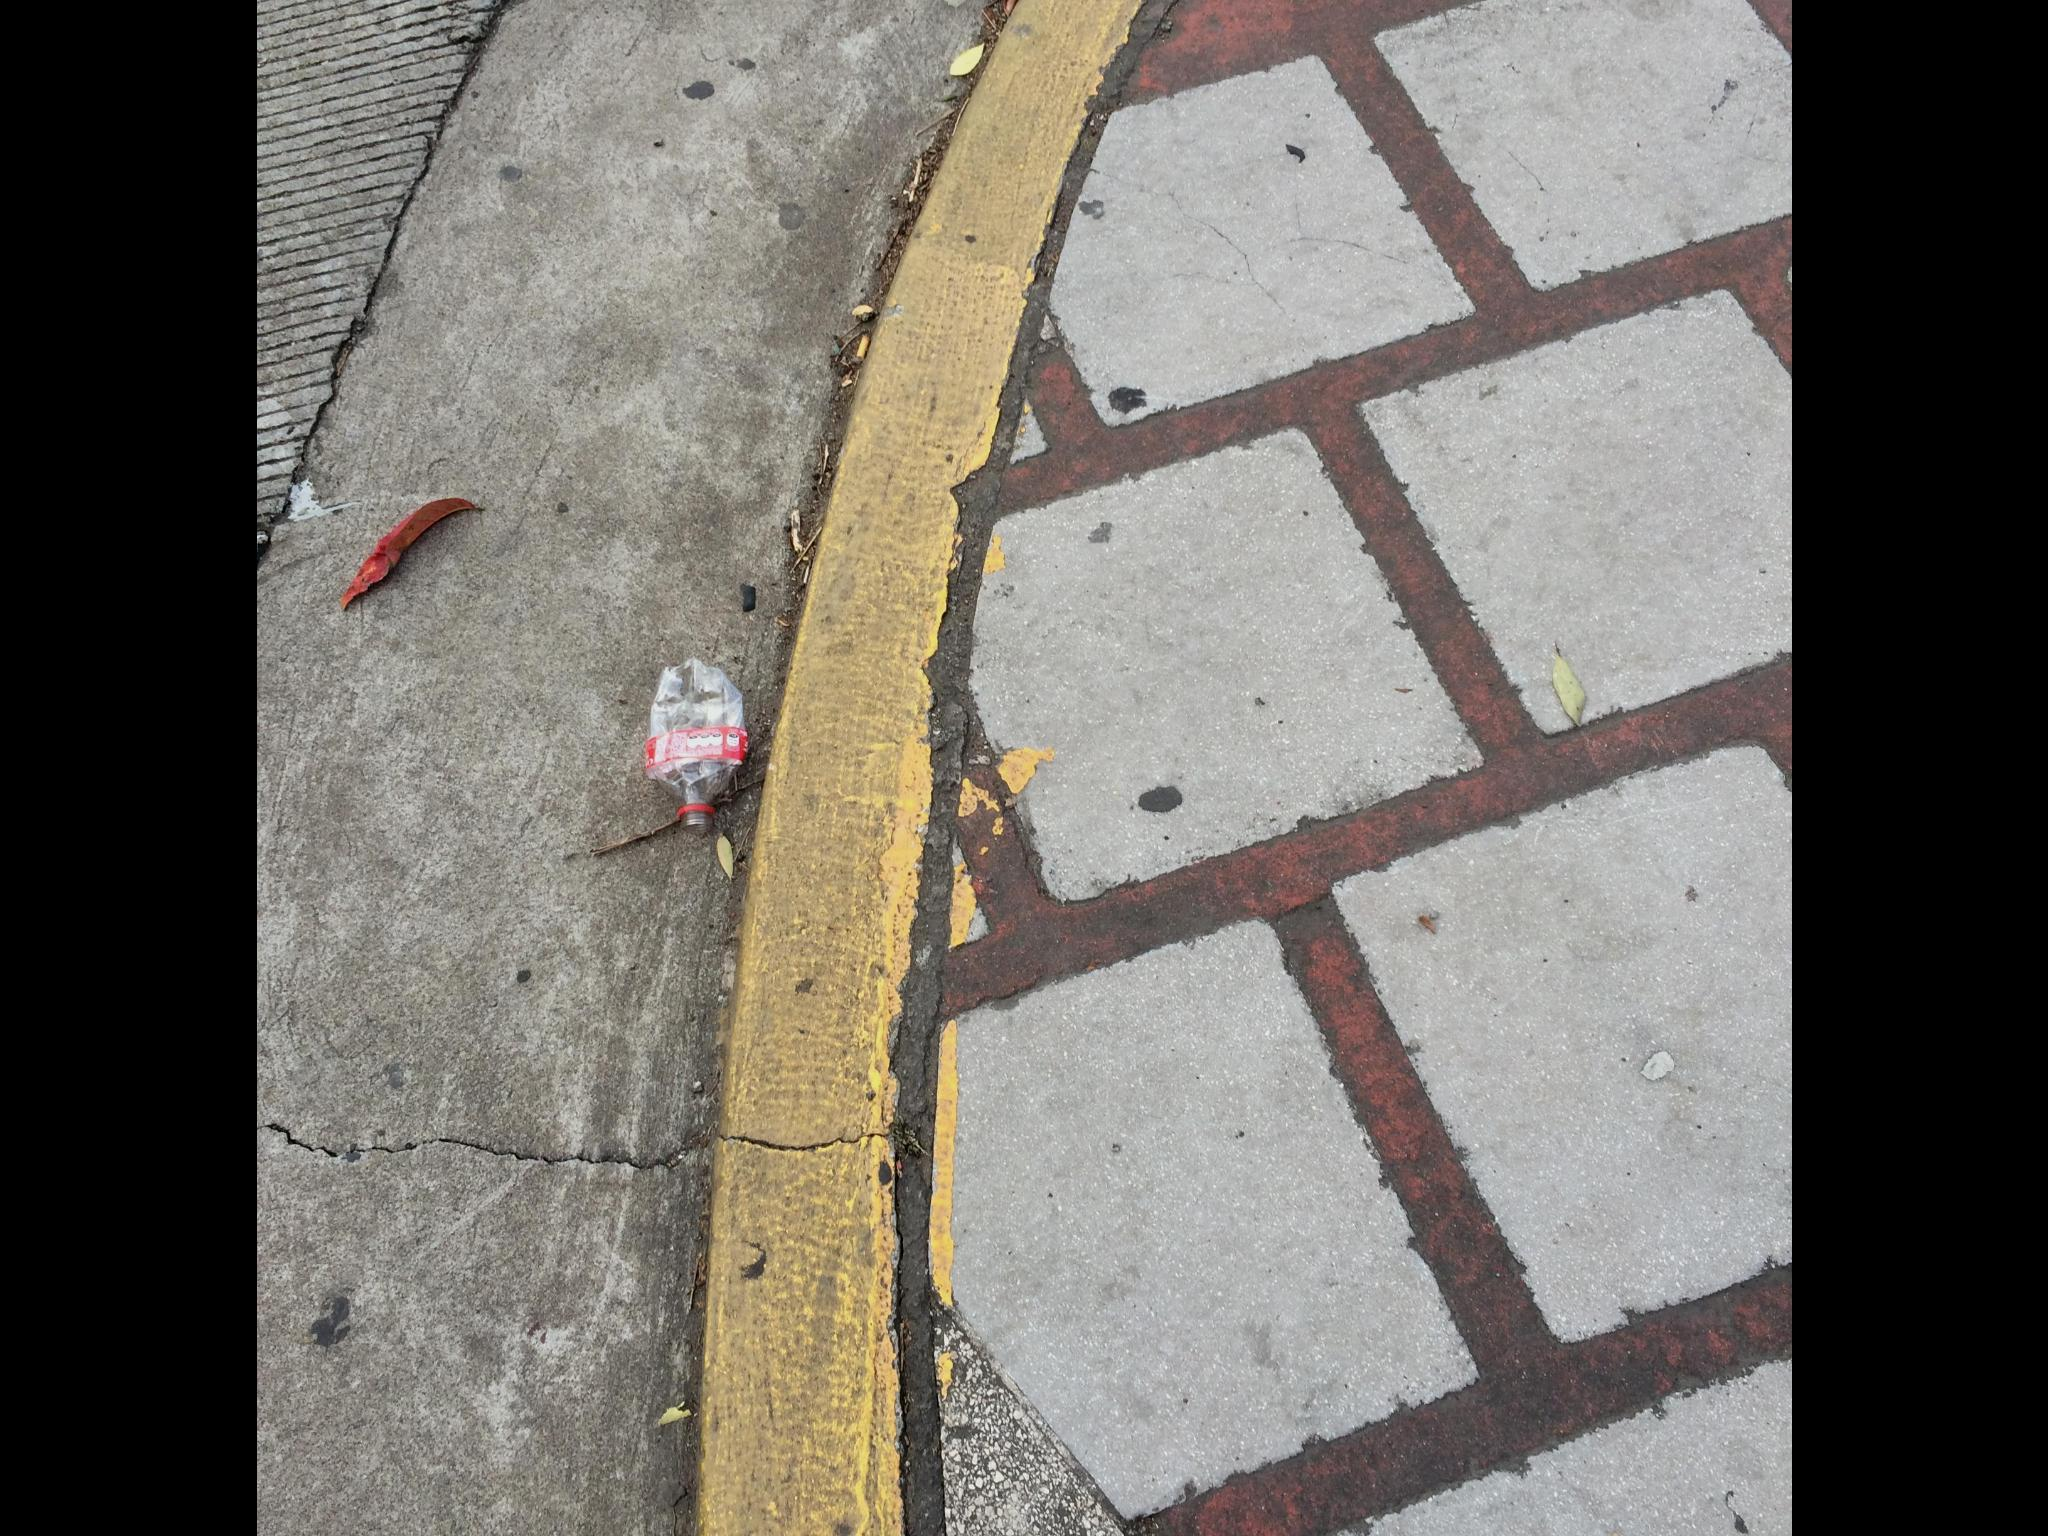bottle: (633, 639, 759, 849)
